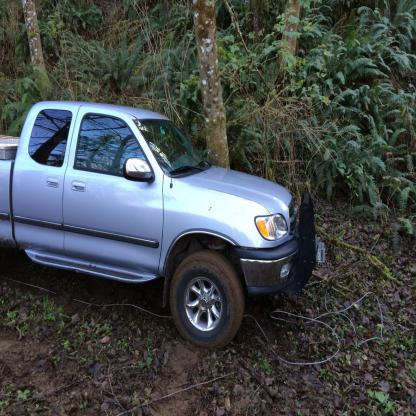Truck: (0, 100, 327, 353)
